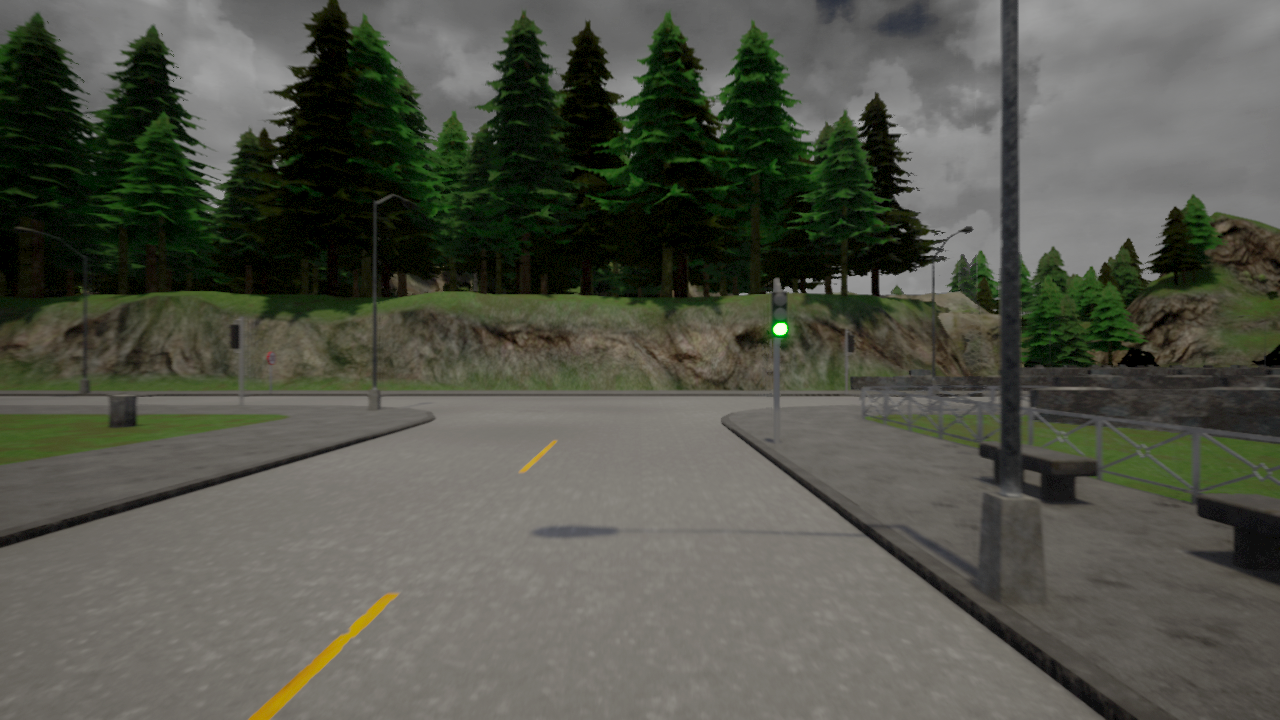green: (772, 290, 790, 340)
